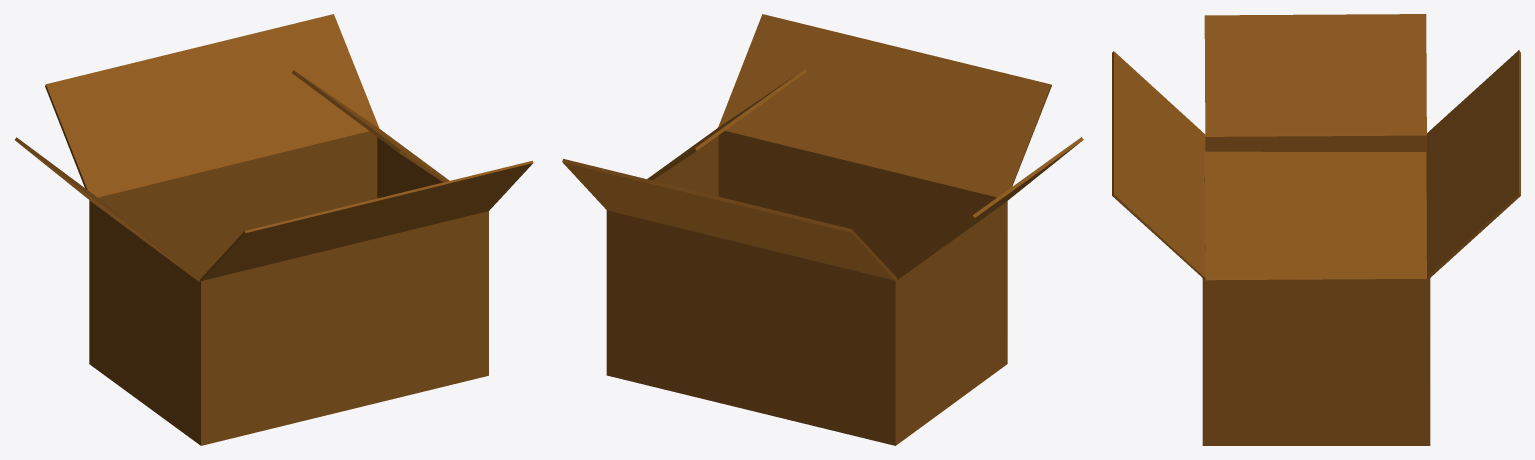
Rendered from cardboard_box.FBX.
3 renders of one model, left to right at view 1: azimuth 30°, elevation 25°; view 2: azimuth 150°, elevation 25°; view 3: azimuth 270°, elevation 25°, orthographic.
Visible parts, largest first — view 1: Box001; view 2: Box001; view 3: Box001.
Part boxes in pixels (x1,y1,x2,y2): Box001: (15,14,533,445); Box001: (562,14,1083,445); Box001: (1112,14,1520,445).
Bounding box in the file's own units: 36.97 × 23.96 × 35.09.
Materials: 1 (1 with a texture image).
